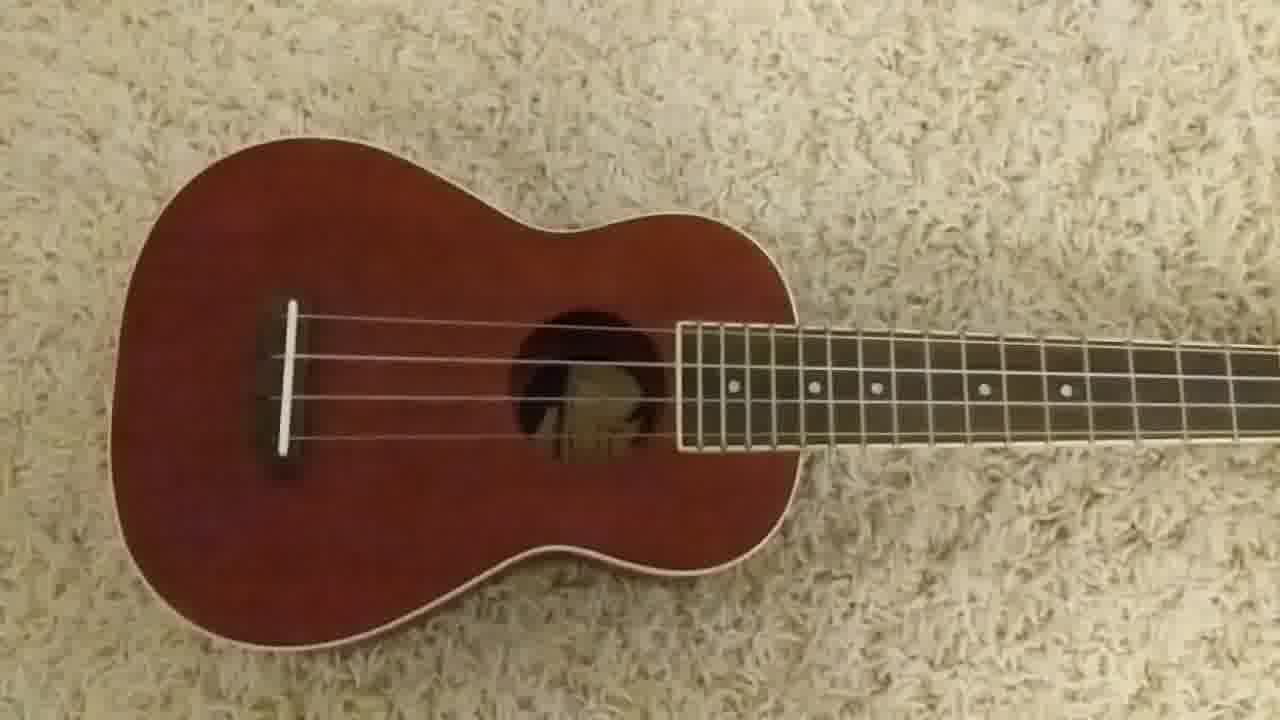Body: (106, 125, 813, 658)
Bridge: (254, 292, 315, 466)
